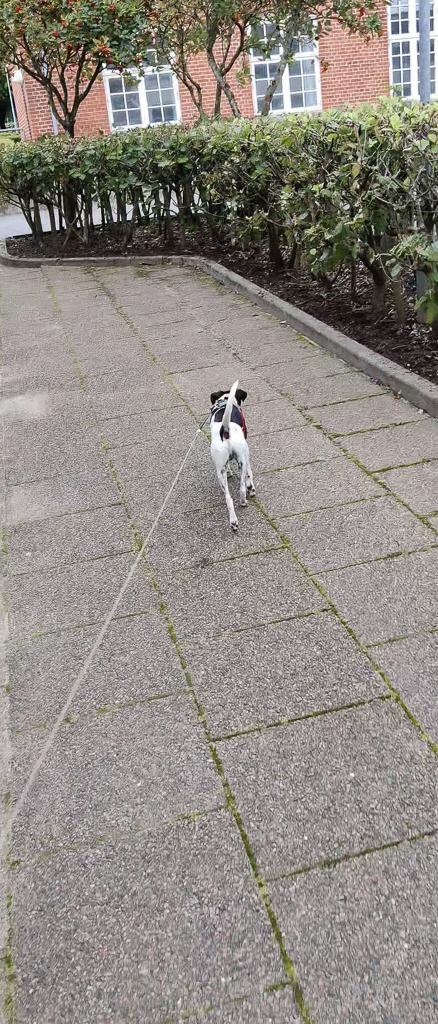Dog: (192, 377, 282, 554)
